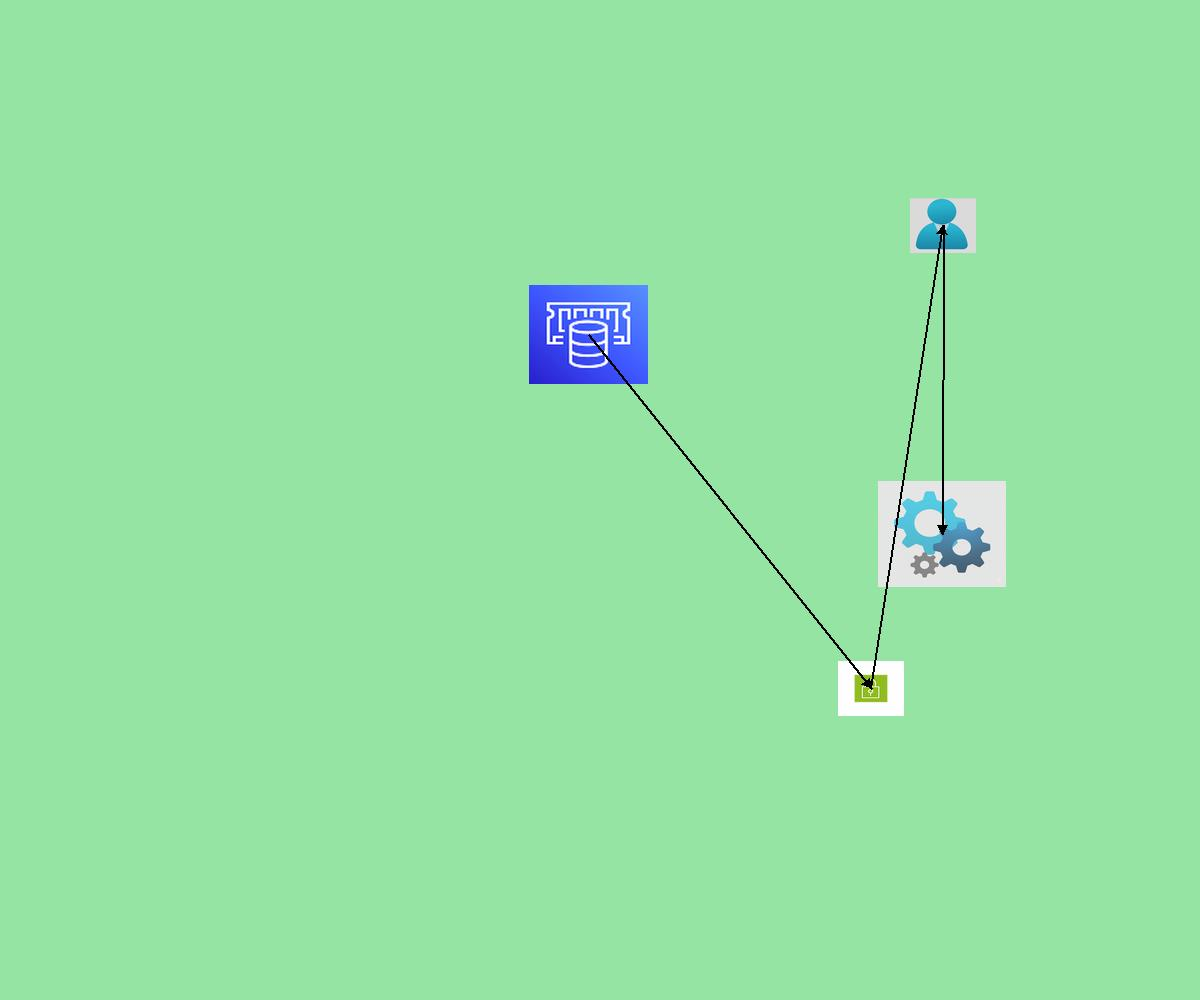AWS-ElastiCache: (529, 285, 648, 384)
AWS-Public-subnet: (838, 661, 904, 716)
Azure_api: (878, 481, 1006, 587)
Azure_users: (910, 198, 976, 253)
